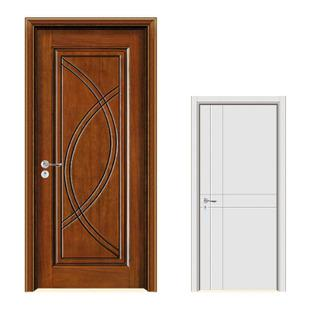door: (35, 27, 146, 287), (197, 103, 280, 290)
